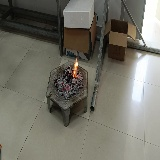fire: (73, 58, 78, 78)
